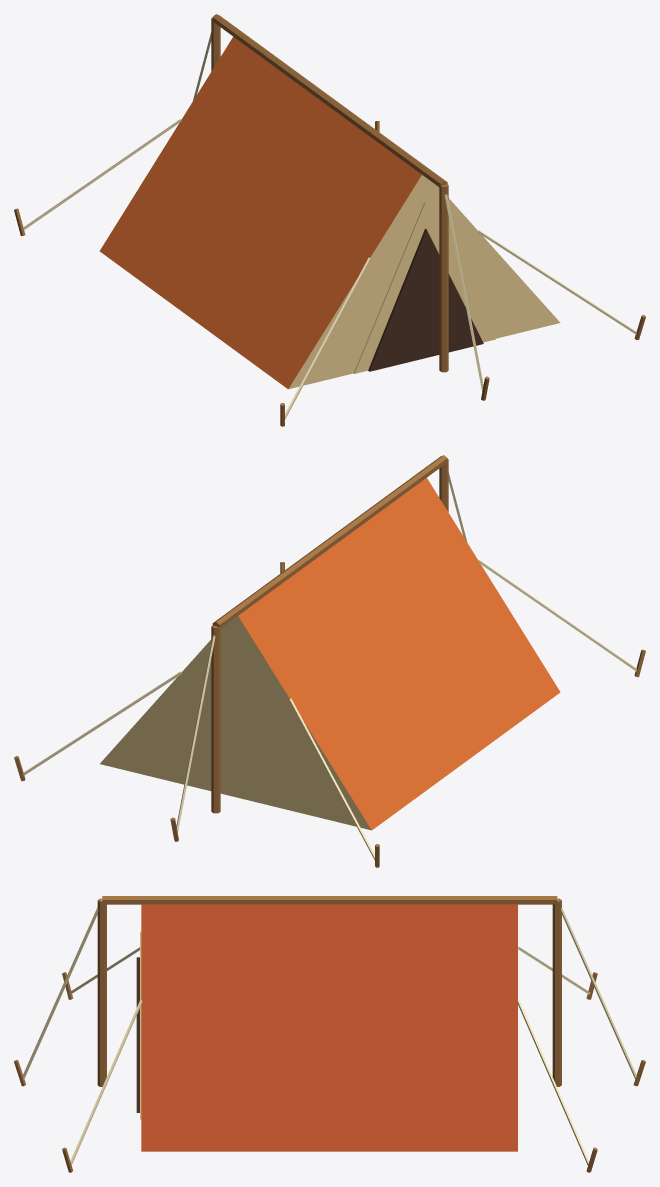
Rendered from tent.glb.
3 renders of one model, top to bottom at view 1: azimuth 30°, elevation 25°; view 2: azimuth 150°, elevation 25°; view 3: azimuth 270°, elevation 25°, orthographic.
Parts seen in each view (by area): view 1: tent; view 2: tent; view 3: tent.
Boxes of the visible parts, box(x1,y1,x2,y2) form: tent: box(14, 14, 645, 426); tent: box(14, 455, 645, 867); tent: box(14, 896, 645, 1172).
Size of the model in its own units: 2.68 by 1.33 by 4.03.
